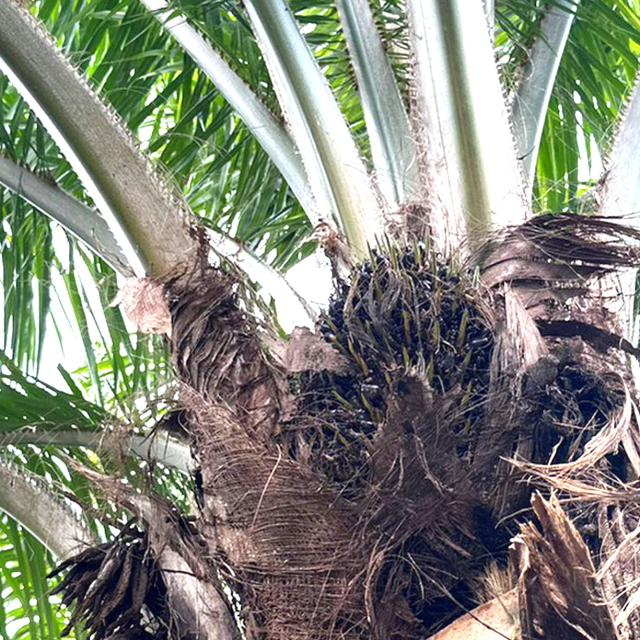unripe: (281, 223, 528, 513)
